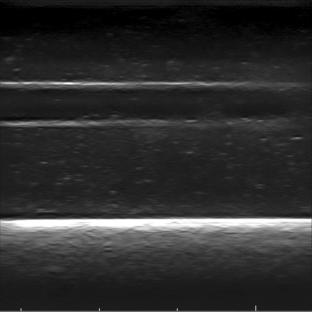vessel: (0, 79, 282, 129)
